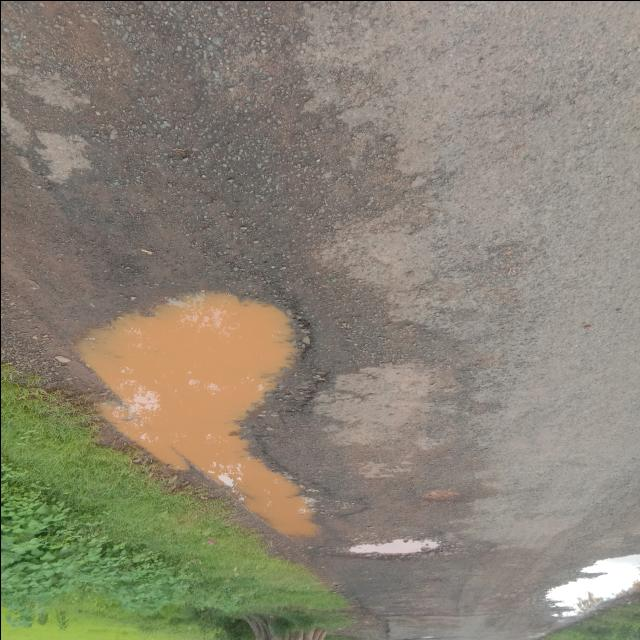potholes: (62, 282, 352, 544), (536, 537, 640, 623), (324, 522, 464, 569), (407, 477, 481, 505)
